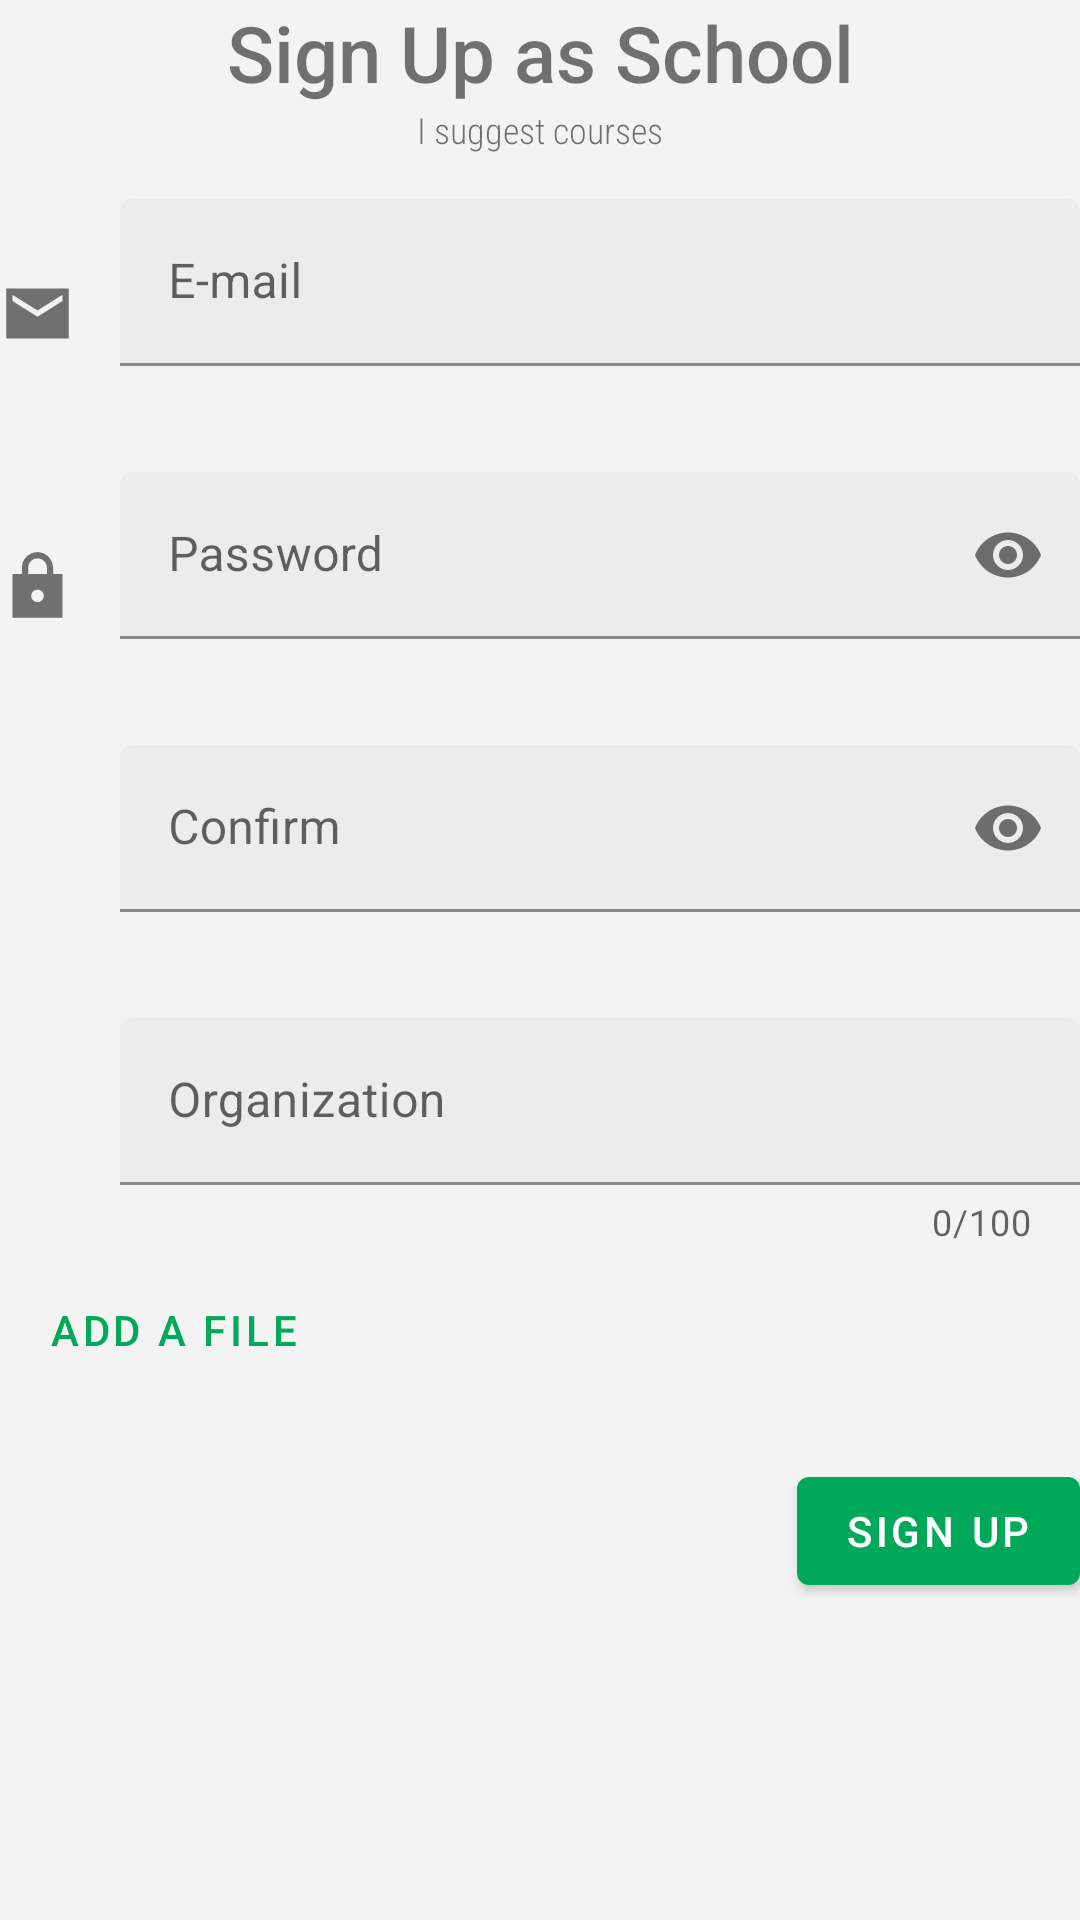

Where icons sit on this 1080w x 1920h app screen, as [x1, y1, x2, y2]:
lock: [12, 552, 63, 618]
